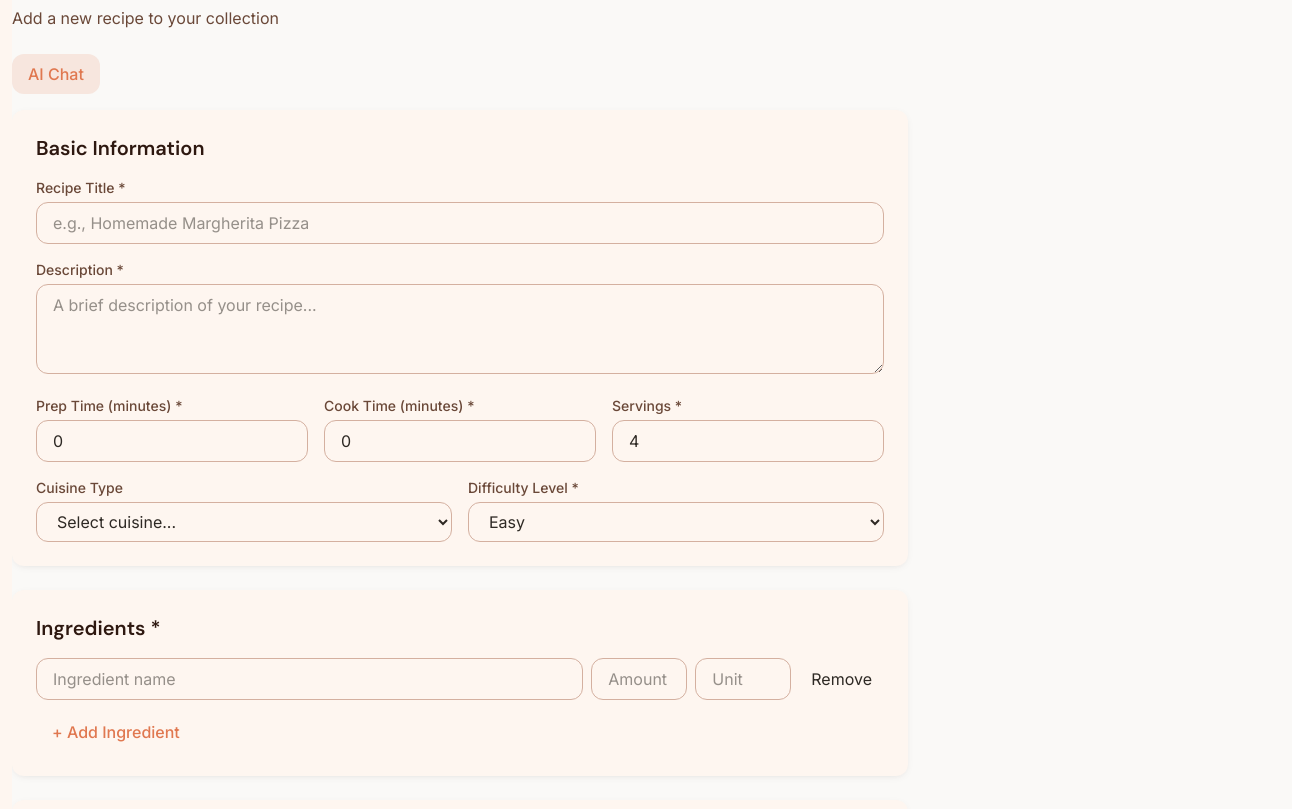
Test: CreateRecipePage - Chat Integration › Apply updates form state with all fields (title, description, ingredients, instructions)
Click the button "AI Chat".
click(56, 74)  # box x1=12 y1=54 x2=100 y2=94
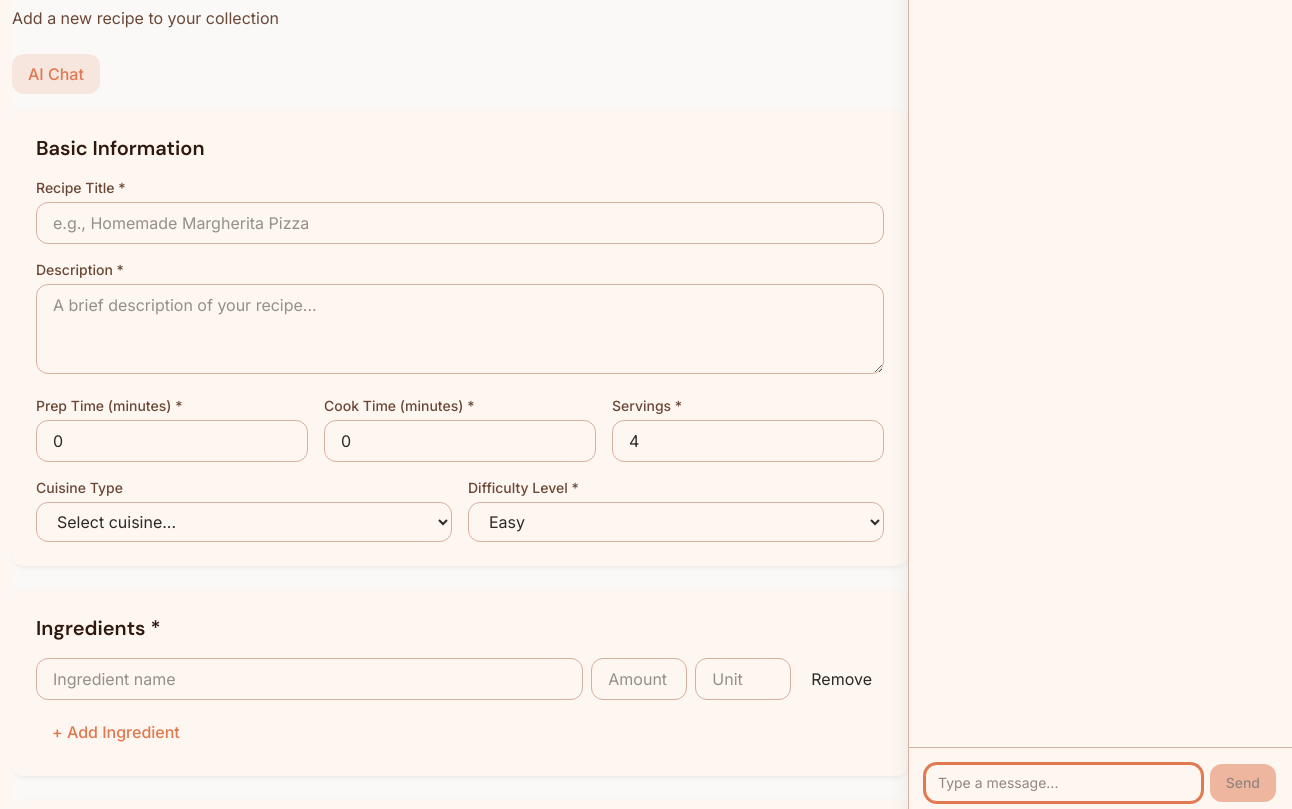
Type "create a chicken recipe" into the field labelled "Type a message...".
click(1063, 783); type("create a chicken recipe")  # box x1=925 y1=764 x2=1202 y2=802
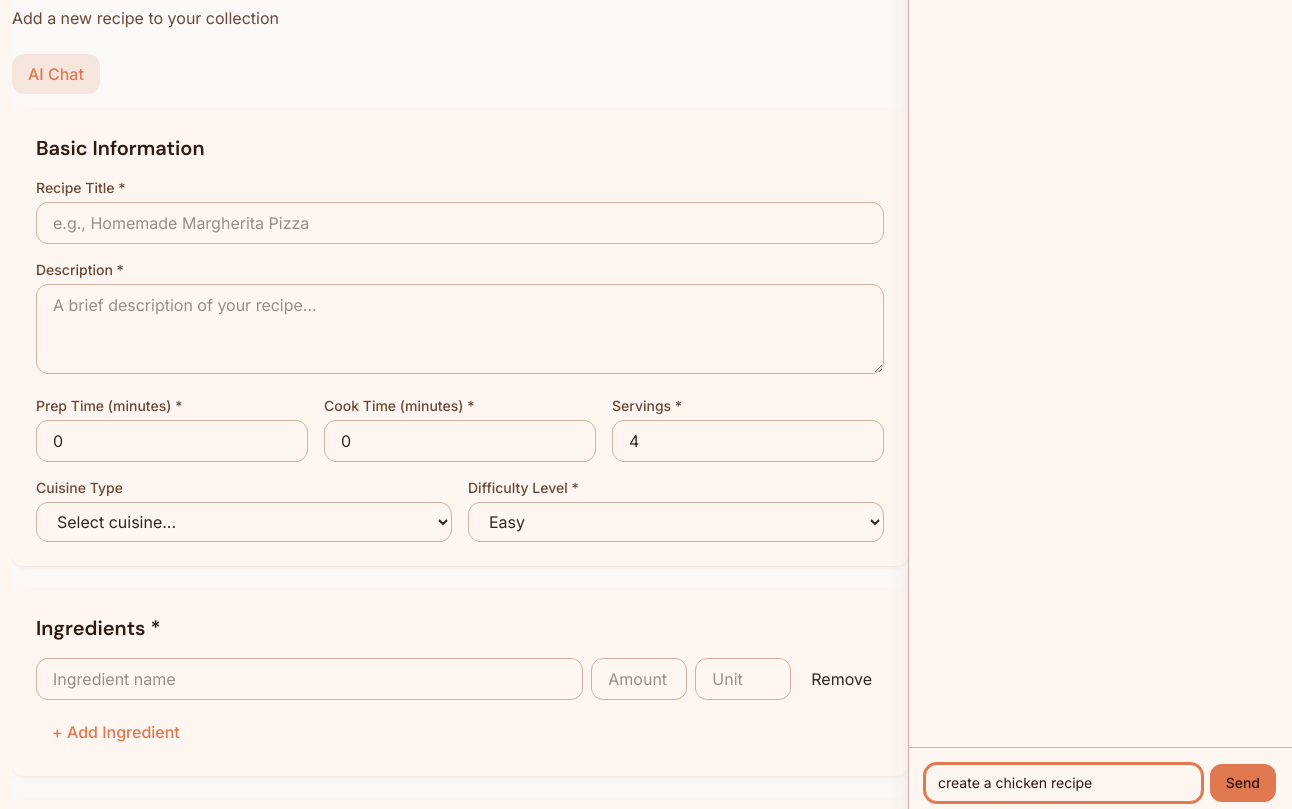
Click the button "Send".
click(1243, 783)  # box x1=1210 y1=764 x2=1276 y2=802
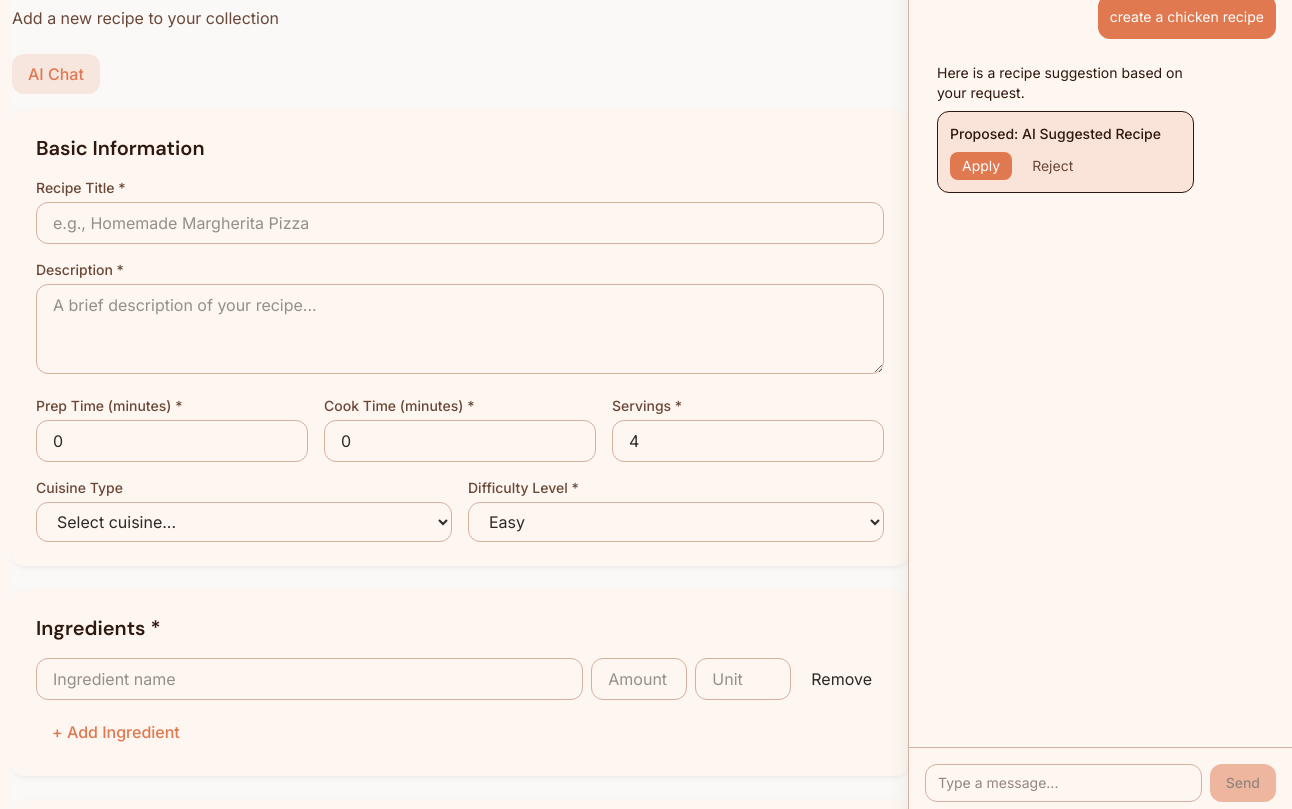
Expected: the button "Apply" is shown
Click the button "Apply".
click(981, 166)  # box x1=950 y1=152 x2=1012 y2=180
(page scrolled)
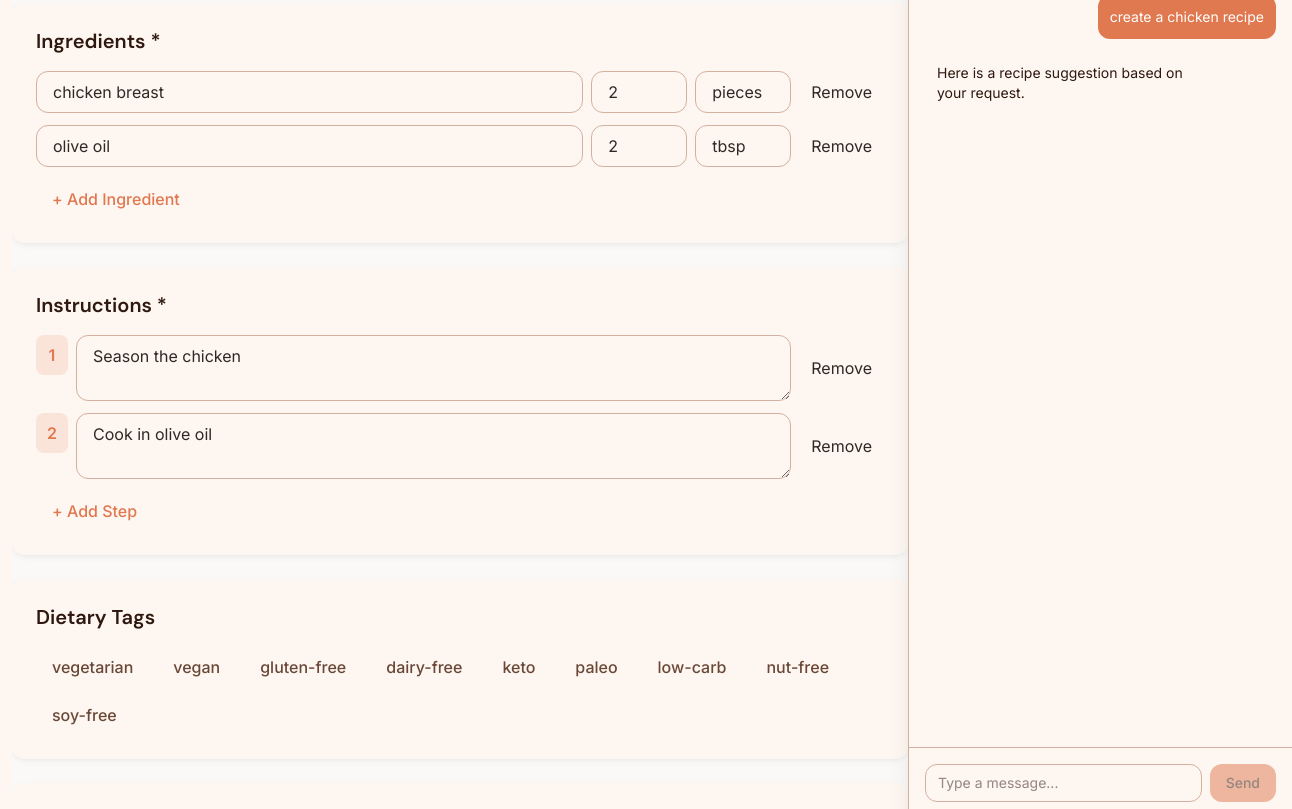
Expected: the 1st field showing "chicken breast" is shown, x1=36 y1=71 x2=583 y2=113
Expected: the 1st text box showing "Season the chicken" is shown, x1=76 y1=335 x2=791 y2=401
